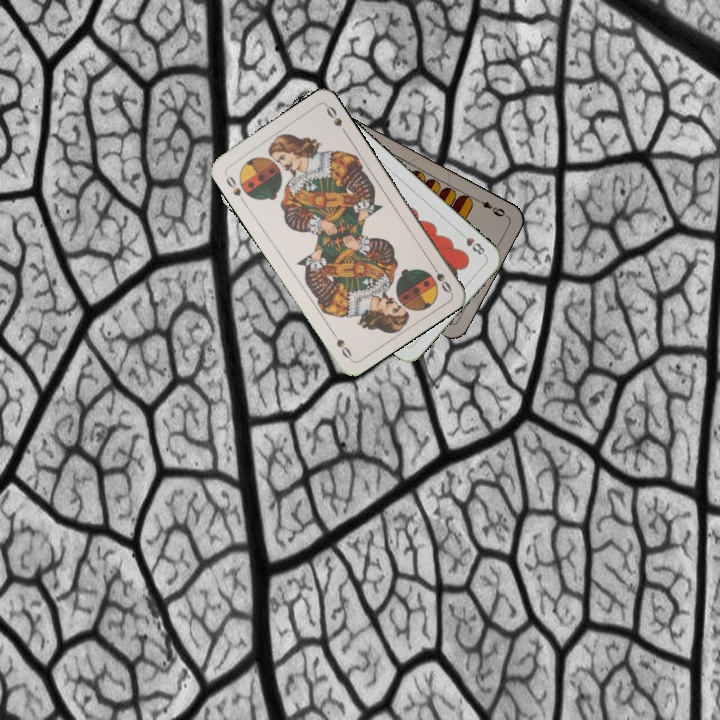E9: (472, 195, 510, 219)
H8: (455, 228, 489, 258)
SO: (426, 259, 454, 296), (220, 169, 248, 206)
